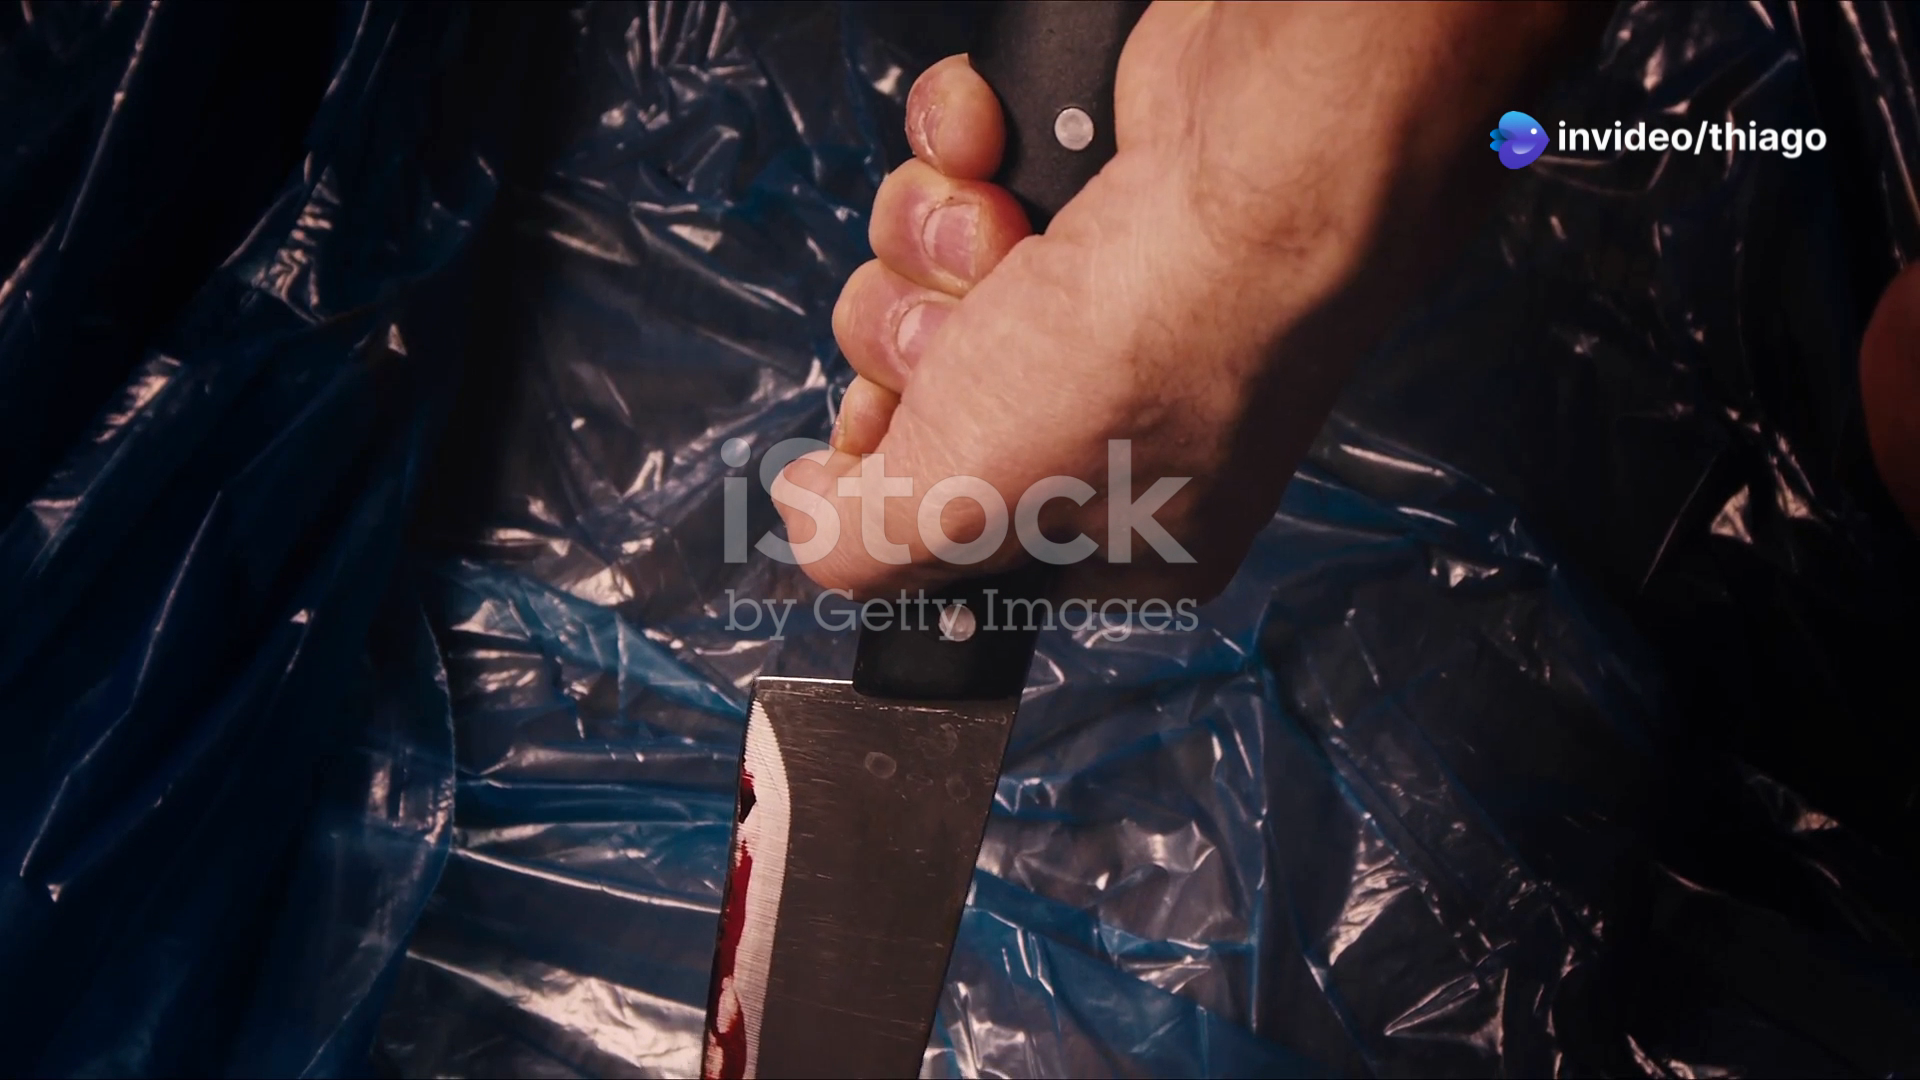cortante: (698, 675, 1023, 1080)
